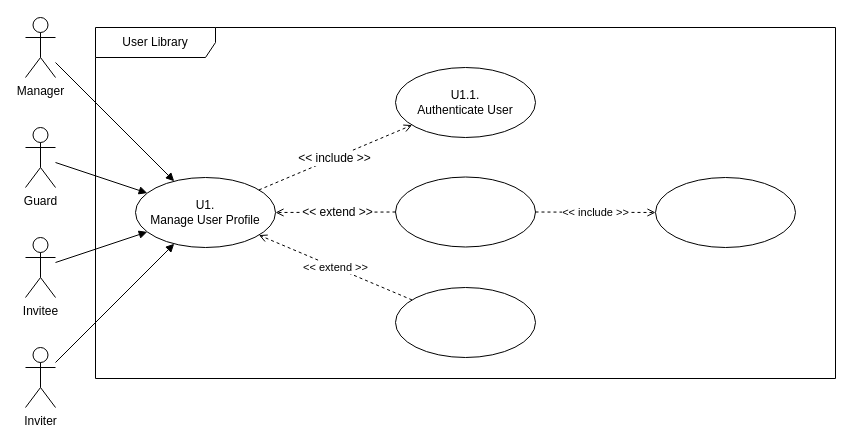
The diagram is 853 pixels wide and 446 high, and some of its shapes have lost their labels. The shapes that lost their labels are listed below. From the top down, each one's box as (x1, y1, x2, y2) in pixels, then its label:
(394, 176, 536, 247): U1.2. Link Identification Document
(654, 176, 796, 248): U1.2.1 Scan Identification Document
(394, 286, 536, 358): U1.3. Delete all user Information
